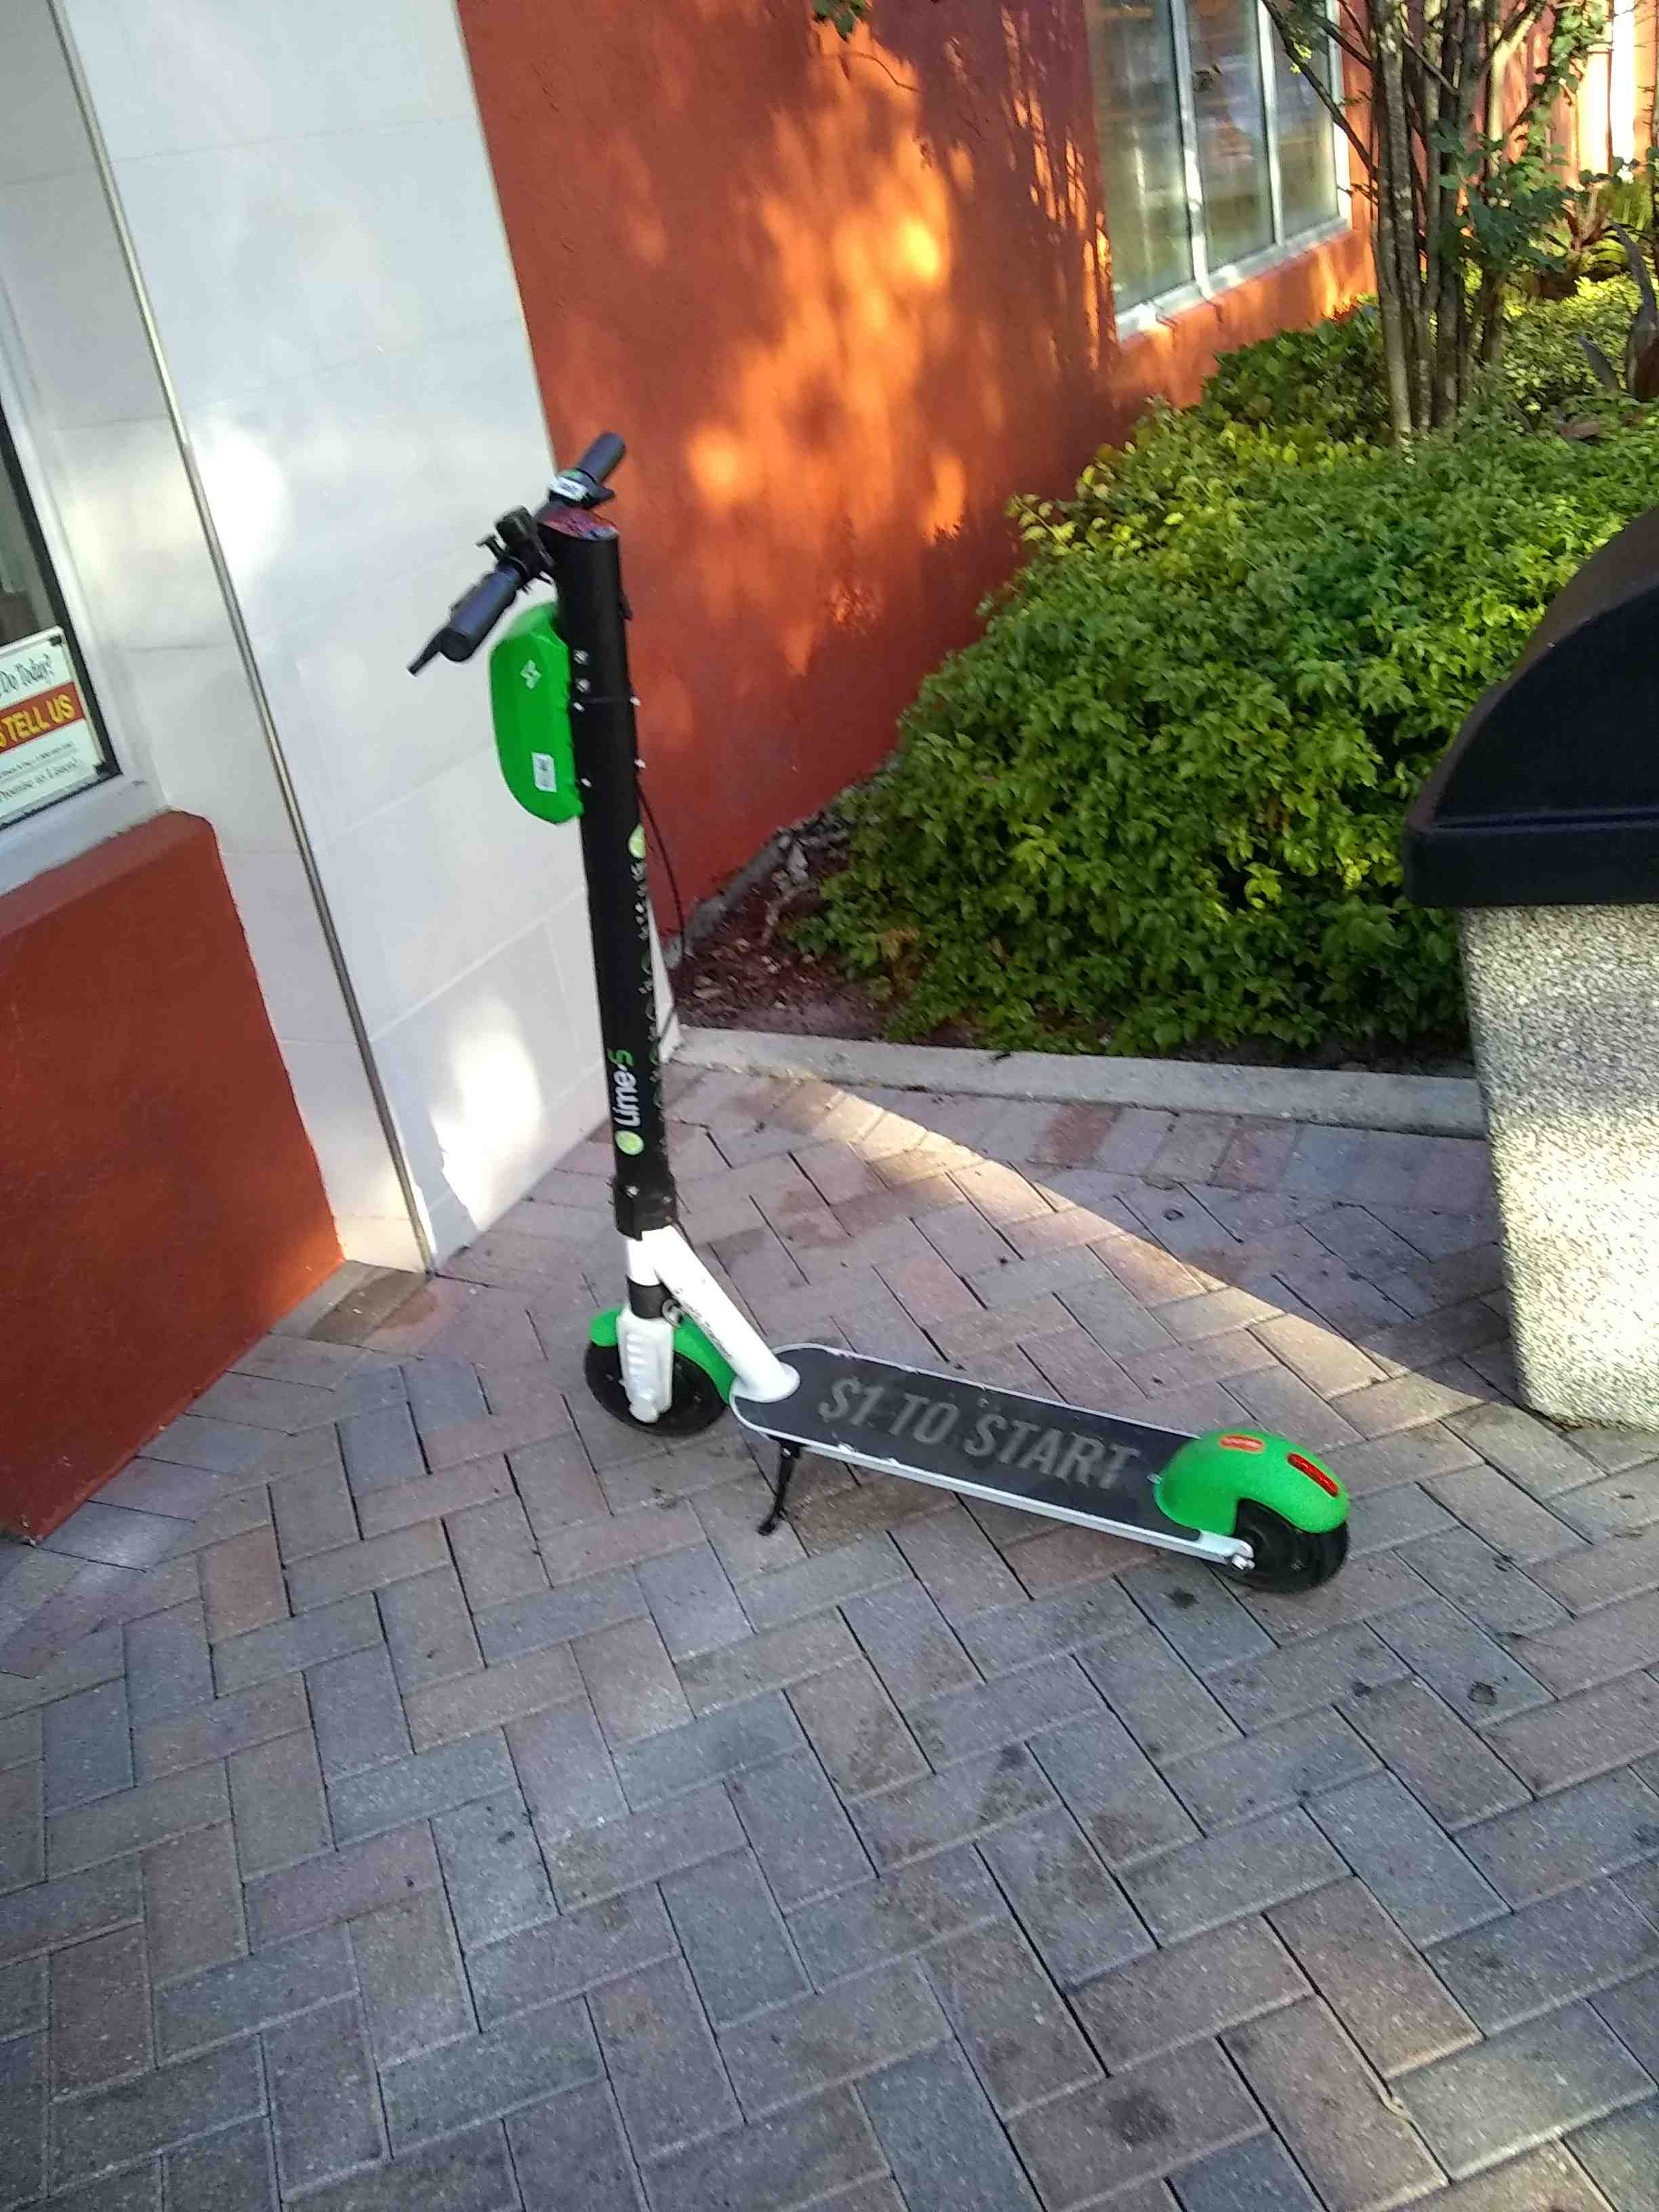scooter: (375, 430, 1406, 1597)
